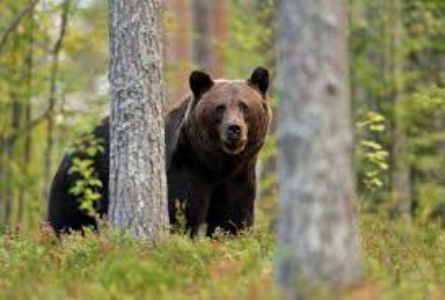bear: (50, 62, 284, 245)
